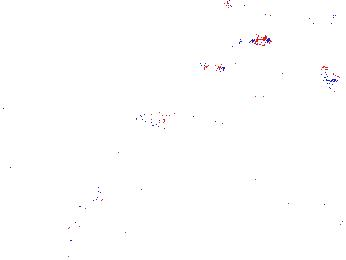X-ray fish: (124, 177, 163, 212)
glassfish: (133, 106, 240, 150), (64, 172, 116, 258)
red belly glassfish: (179, 59, 228, 76), (321, 62, 342, 87), (238, 33, 273, 47)
redtail glassfish: (193, 1, 238, 12)
